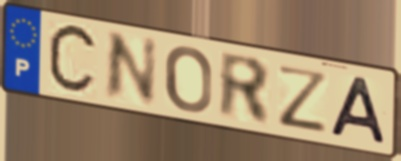A: (327, 73, 390, 148)
C: (45, 21, 101, 98)
N: (101, 30, 160, 106)
O: (162, 44, 214, 115)
R: (217, 48, 273, 129)
Z: (275, 63, 331, 135)
